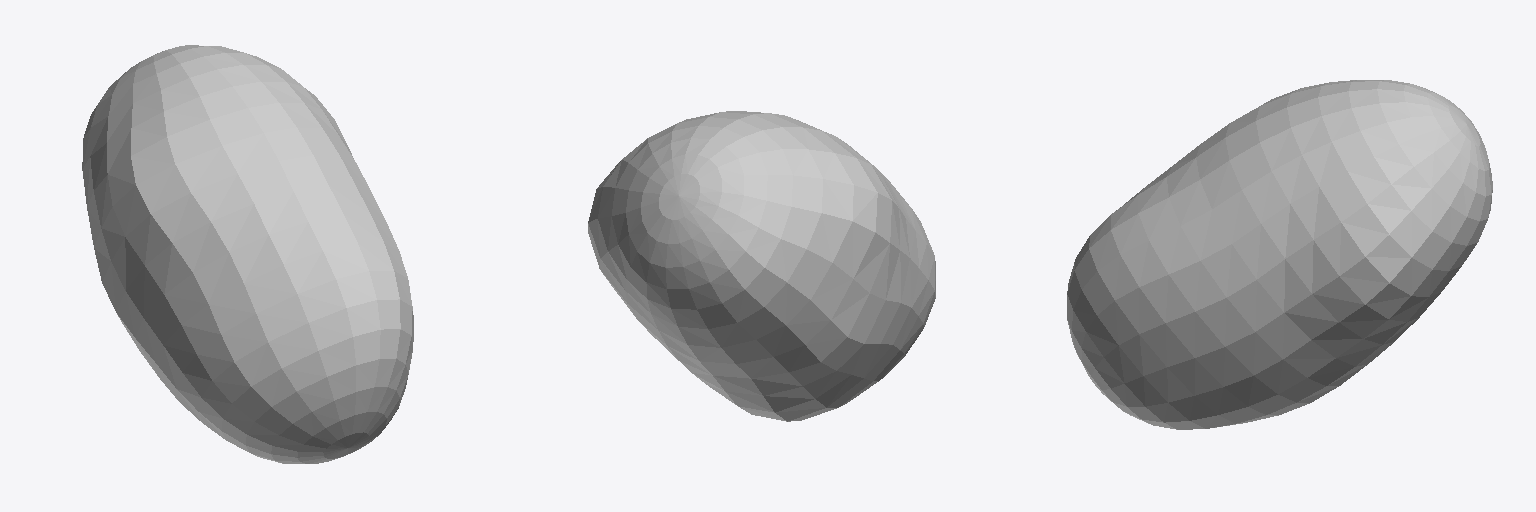
Rendered from PotatoPlant.obj.
3 renders of one model, left to right at view 1: azimuth 30°, elevation 25°; view 2: azimuth 150°, elevation 25°; view 3: azimuth 270°, elevation 25°, orthographic.
Visible parts, largest first — view 1: pSphere1; view 2: pSphere1; view 3: pSphere1.
Boxes of the visible parts, box(x1,y1,x2,y2) form: pSphere1: box(82, 45, 413, 463); pSphere1: box(588, 111, 935, 421); pSphere1: box(1067, 80, 1492, 429).
Size of the model in its own units: 2.11 by 2.63 by 3.08.